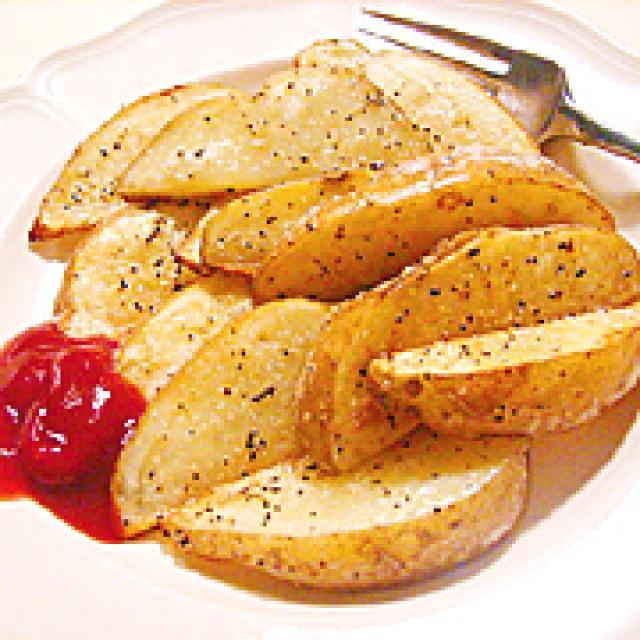French Fries: (59, 72, 598, 564)
